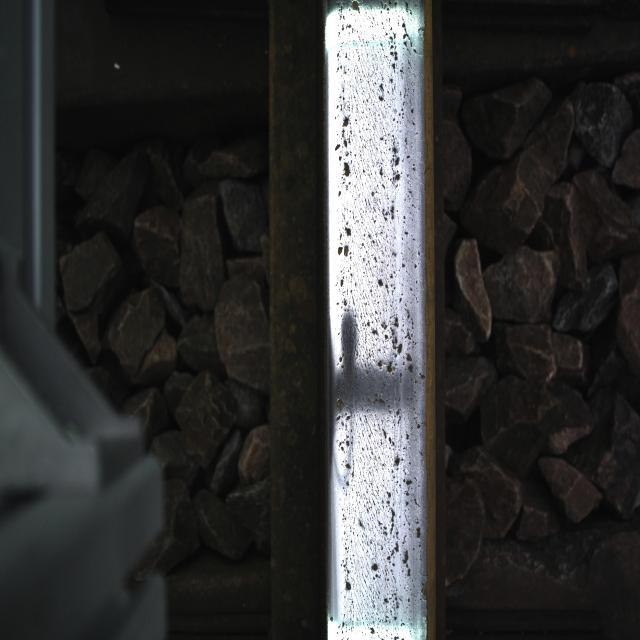scar: (326, 15, 422, 580)
